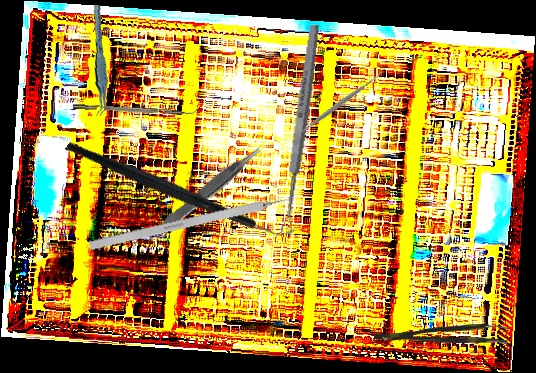Chopper: (63, 73, 299, 303), (72, 97, 199, 118)
Hook Surgical: (88, 191, 304, 251)
Spatula Surgical: (288, 66, 388, 144)
Surgical Spoon: (278, 24, 322, 235)
Tissue Forceps: (155, 141, 268, 235), (85, 4, 114, 117), (374, 322, 509, 344)
